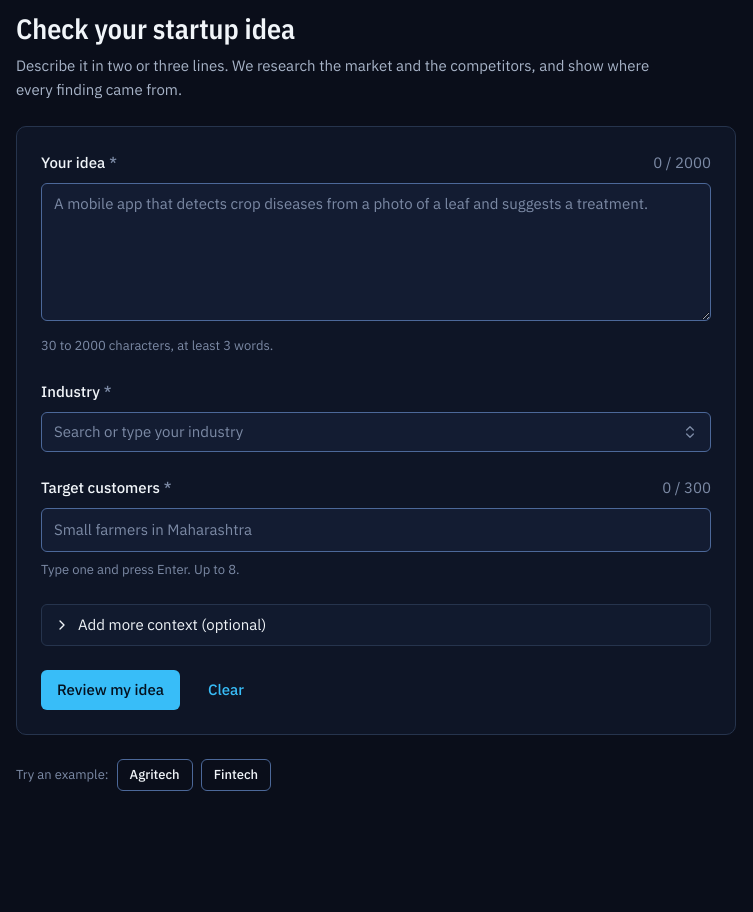
New validation: the form › fills itself from an example idea
Click the button "Agritech".
click(155, 775)  # box left=117, top=759, right=193, bottom=791
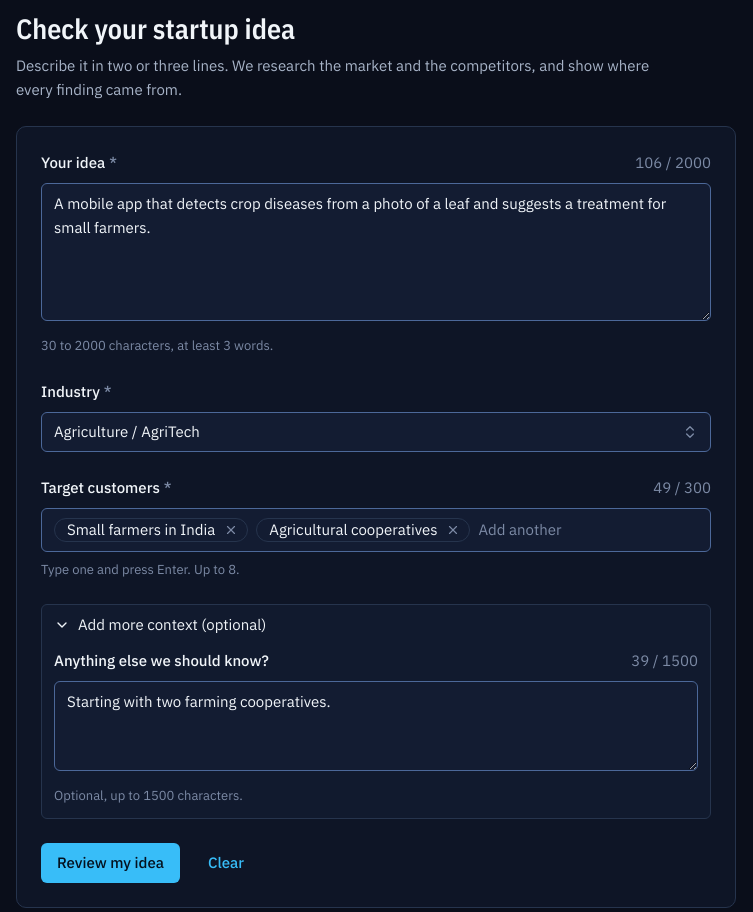
expect the text box labelled "Your idea*" holds "A mobile app that detects crop diseases from a photo of a leaf and suggests a treatment for small farmers.": met, box left=41, top=183, right=711, bottom=321
expect the dropdown named "industry" reads "Agriculture / AgriTech": met, box left=41, top=412, right=711, bottom=452
expect the text "Small farmers in India" is shown: met, box left=54, top=518, right=248, bottom=542
